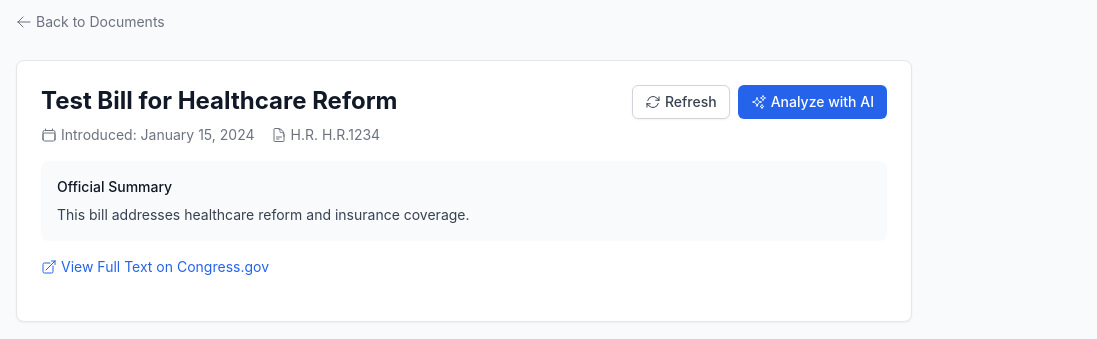
Scenario: DocumentDetail › handles analyze button click
Click the button "Analyze with AI".
click(812, 102)  # box [738,85,887,119]
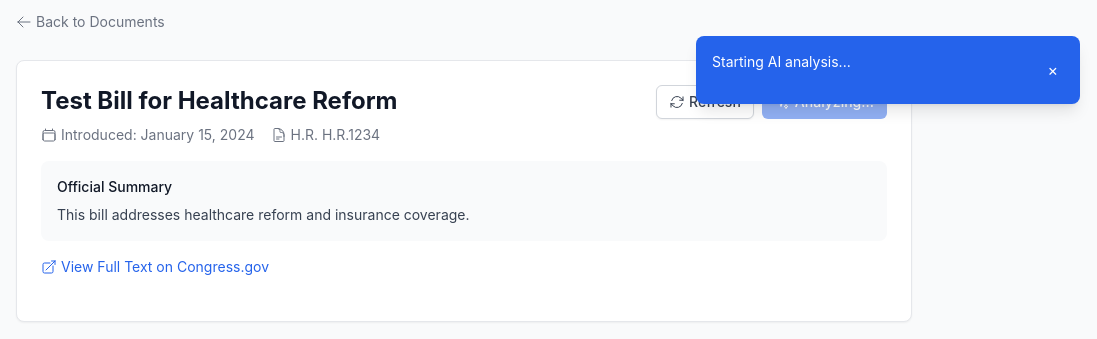
Check: the button "Analyze with AI" is disabled, box [762,85,887,119]
